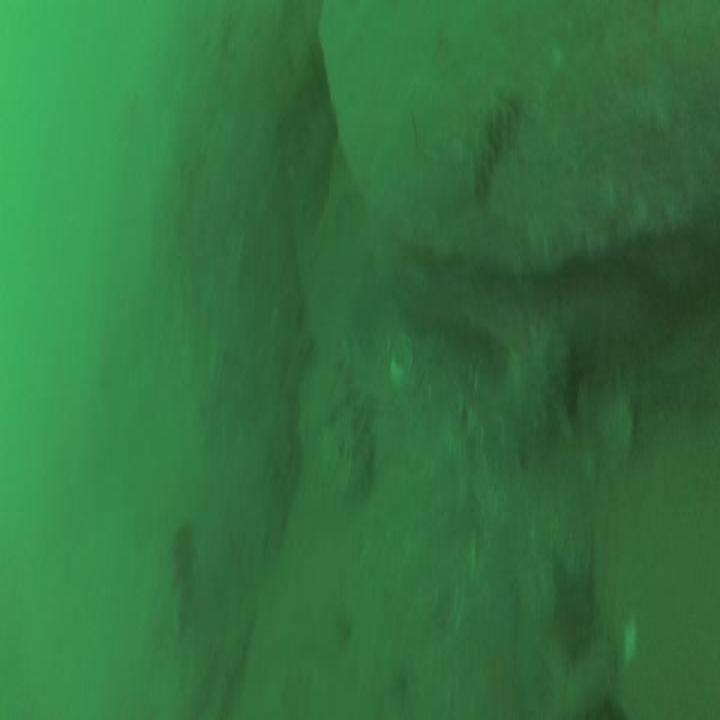holothurian: (327, 345, 376, 499), (465, 94, 525, 199)
